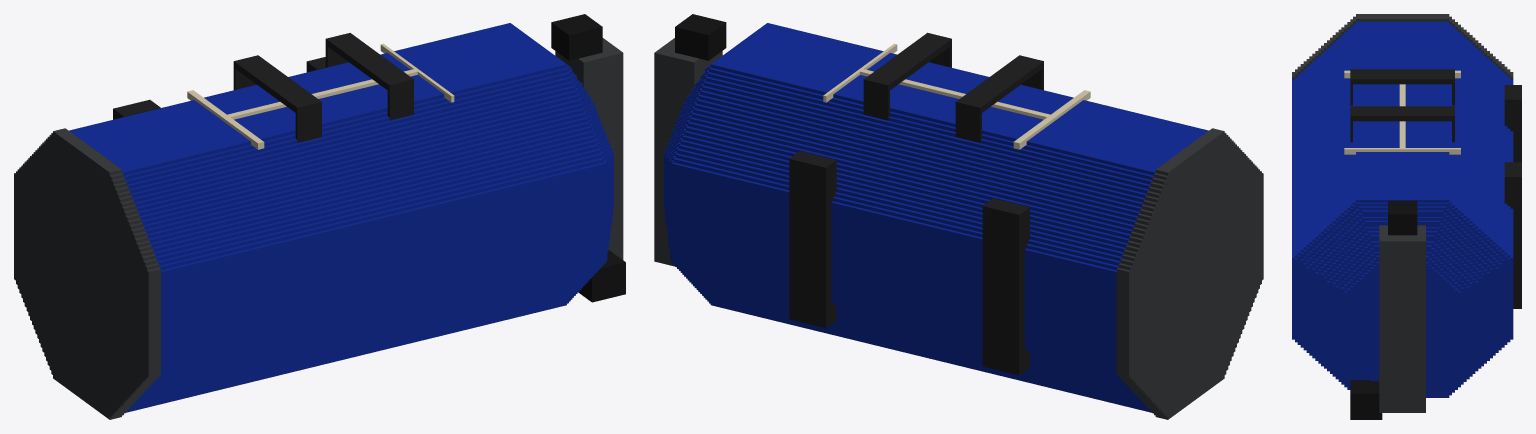
Rendered from dry_duffelbag.glb.
3 renders of one model, left to right at view 1: azimuth 30°, elevation 25°; view 2: azimuth 150°, elevation 25°; view 3: azimuth 270°, elevation 25°, orthographic. The views are drawn at different scales.
Visible parts, largest first — view 1: dry_duffelbag:compound; view 2: dry_duffelbag:compound; view 3: dry_duffelbag:compound.
Part boxes in pixels (x1,y1,x2,y2): dry_duffelbag:compound: (14, 14, 625, 419); dry_duffelbag:compound: (654, 14, 1263, 419); dry_duffelbag:compound: (1292, 14, 1521, 419).
Size of the model in its own units: 0.688 by 0.336 by 0.316.
